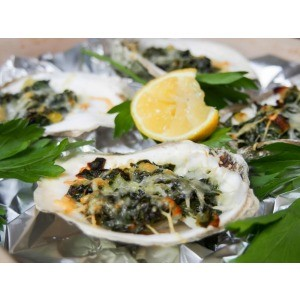oyster_brain food: (61, 157, 254, 234)
